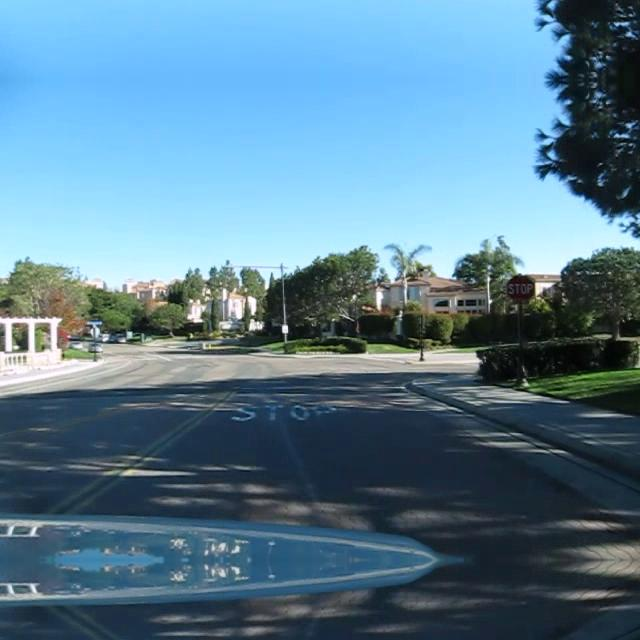stop: (506, 272, 536, 304)
